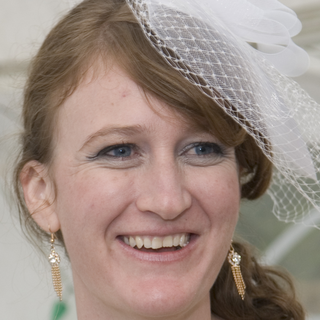eye: (92, 139, 144, 165), (178, 138, 228, 163)
